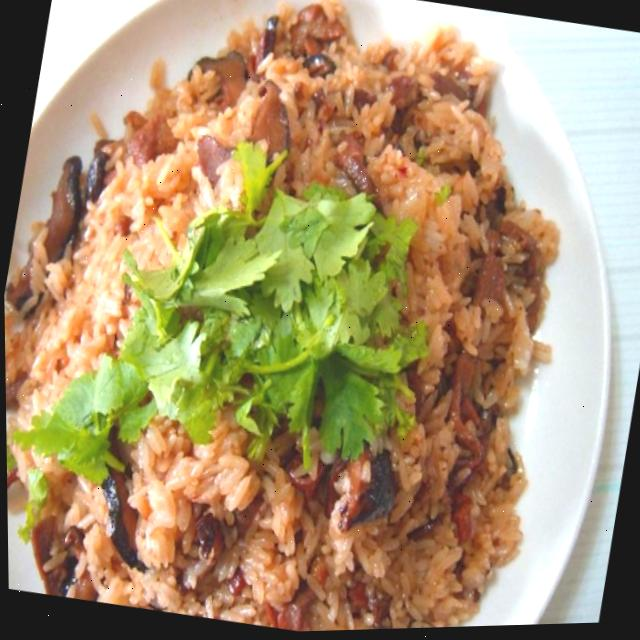米饭主食: (0, 0, 632, 640)
